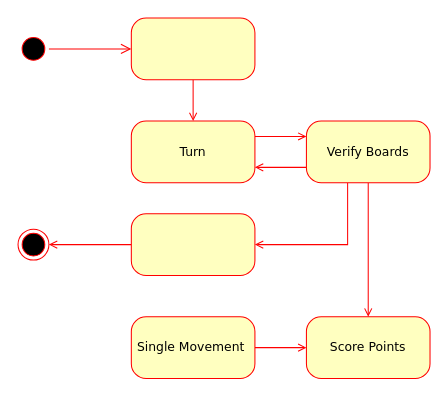
The diagram is 448 pixels wide and 397 high, and some of its shapes have lost their labels. Each missing label, with the box of its shape:
End: (130, 213, 255, 276)
Start: (130, 17, 255, 80)
